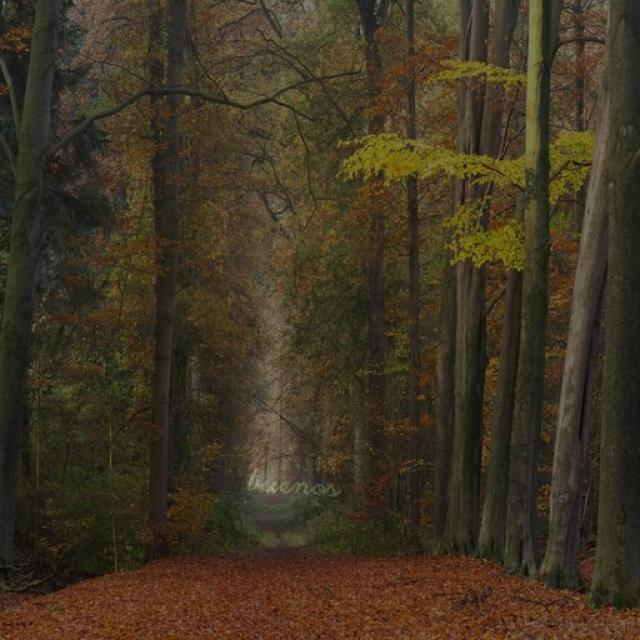watermark: (238, 464, 363, 501)
